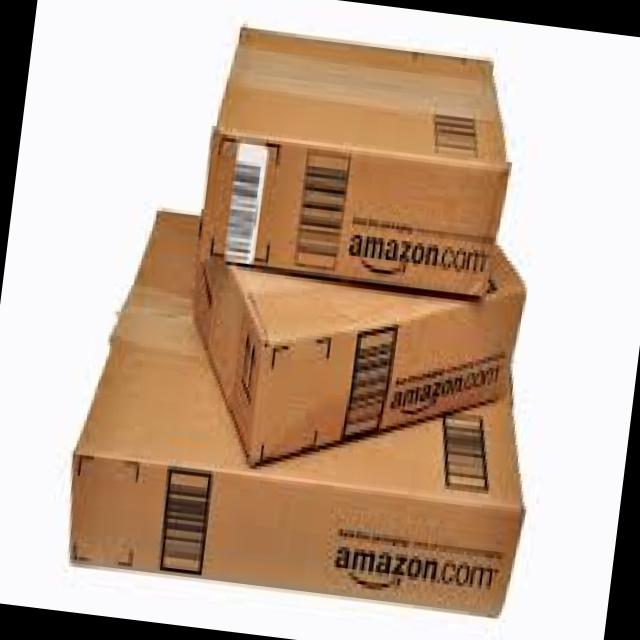box: (70, 209, 528, 620), (196, 24, 512, 300), (191, 242, 530, 470)
